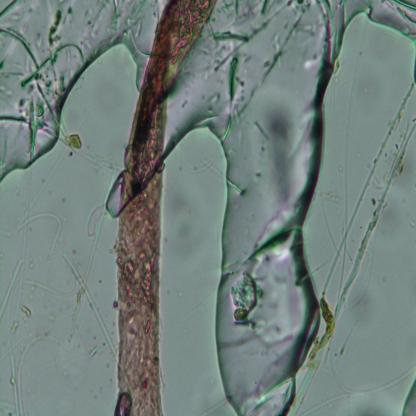Air bubble: (210, 111, 321, 413)
Background material: (212, 0, 308, 126), (0, 0, 64, 146), (268, 114, 298, 204), (228, 272, 264, 336), (67, 130, 82, 151)
Cotton: (114, 0, 218, 416)
Glass filter fibre: (319, 80, 416, 318), (287, 260, 359, 416), (335, 18, 370, 312), (62, 250, 117, 360), (323, 334, 416, 397), (71, 213, 105, 339), (19, 216, 62, 254), (18, 336, 37, 415), (0, 258, 23, 323), (22, 275, 77, 296), (76, 150, 119, 175), (303, 393, 352, 414), (401, 377, 416, 415), (10, 354, 19, 414)
